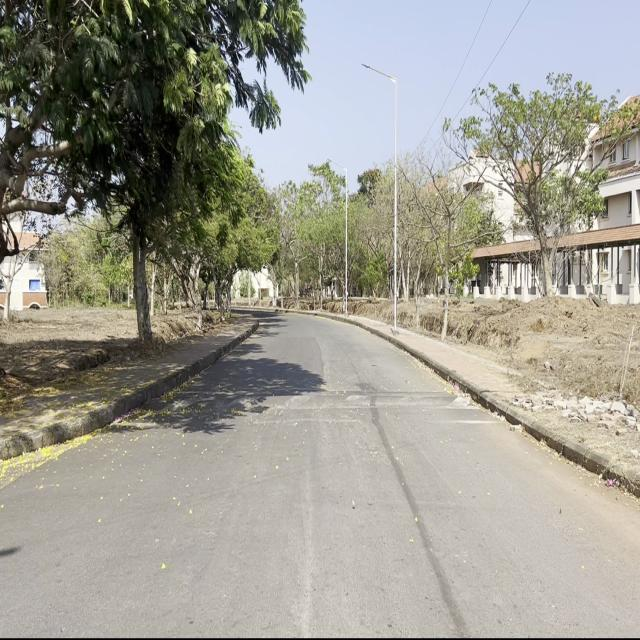Road: (0, 307, 636, 630)
